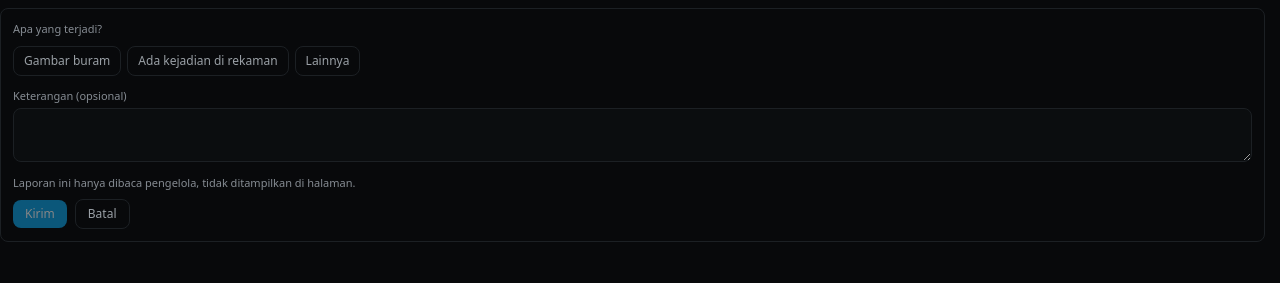
Test case: CameraReportForm › keeps the form open and shows the server reason on refusal
Click the button "Gambar buram" at (67, 60), box [13, 46, 121, 76]
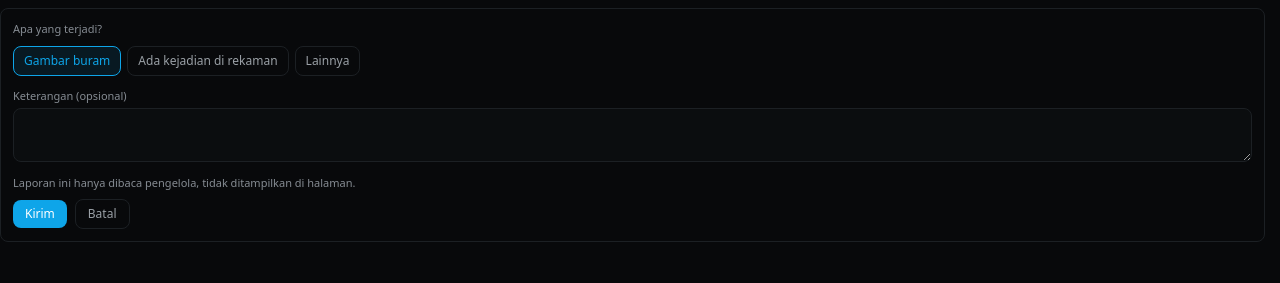
Click the button "Kirim" at (40, 214), box [13, 200, 67, 228]
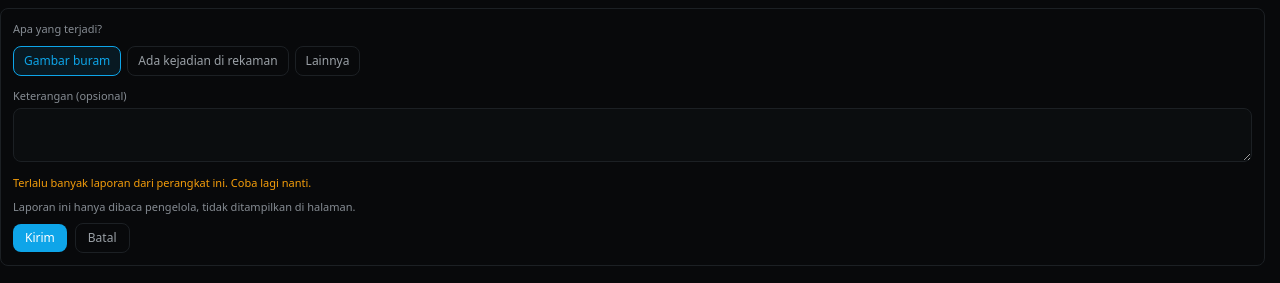
Check: the button "Kirim" is shown, box [13, 224, 67, 252]
Check: the message shows "Terlalu banyak laporan", box [13, 174, 311, 190]
